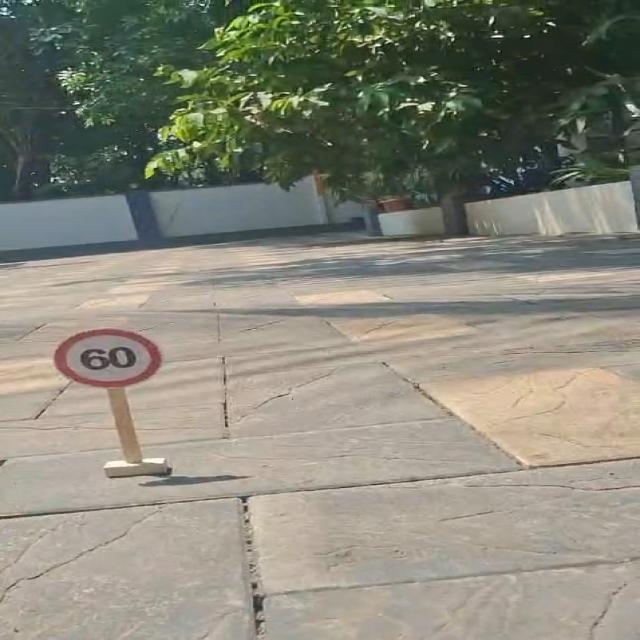Speed60: (40, 320, 178, 396)
